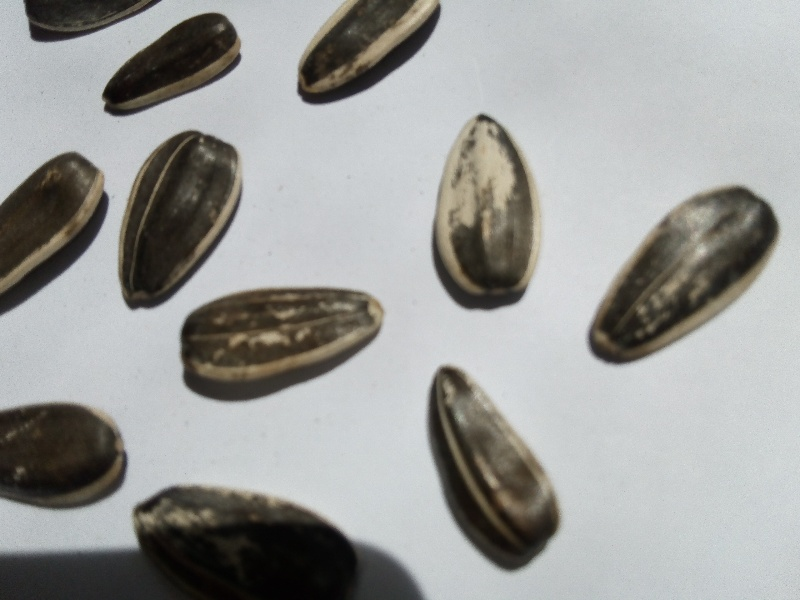w: (578, 167, 790, 379), (413, 359, 578, 577), (422, 103, 546, 323), (112, 123, 249, 281)
